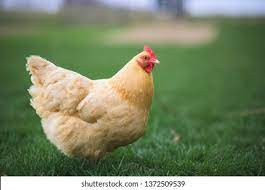buff: (49, 48, 167, 156)
